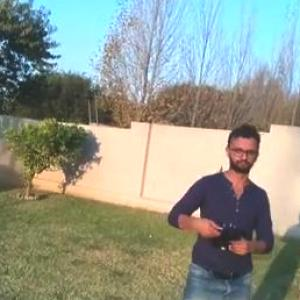follow: (162, 117, 279, 299)
